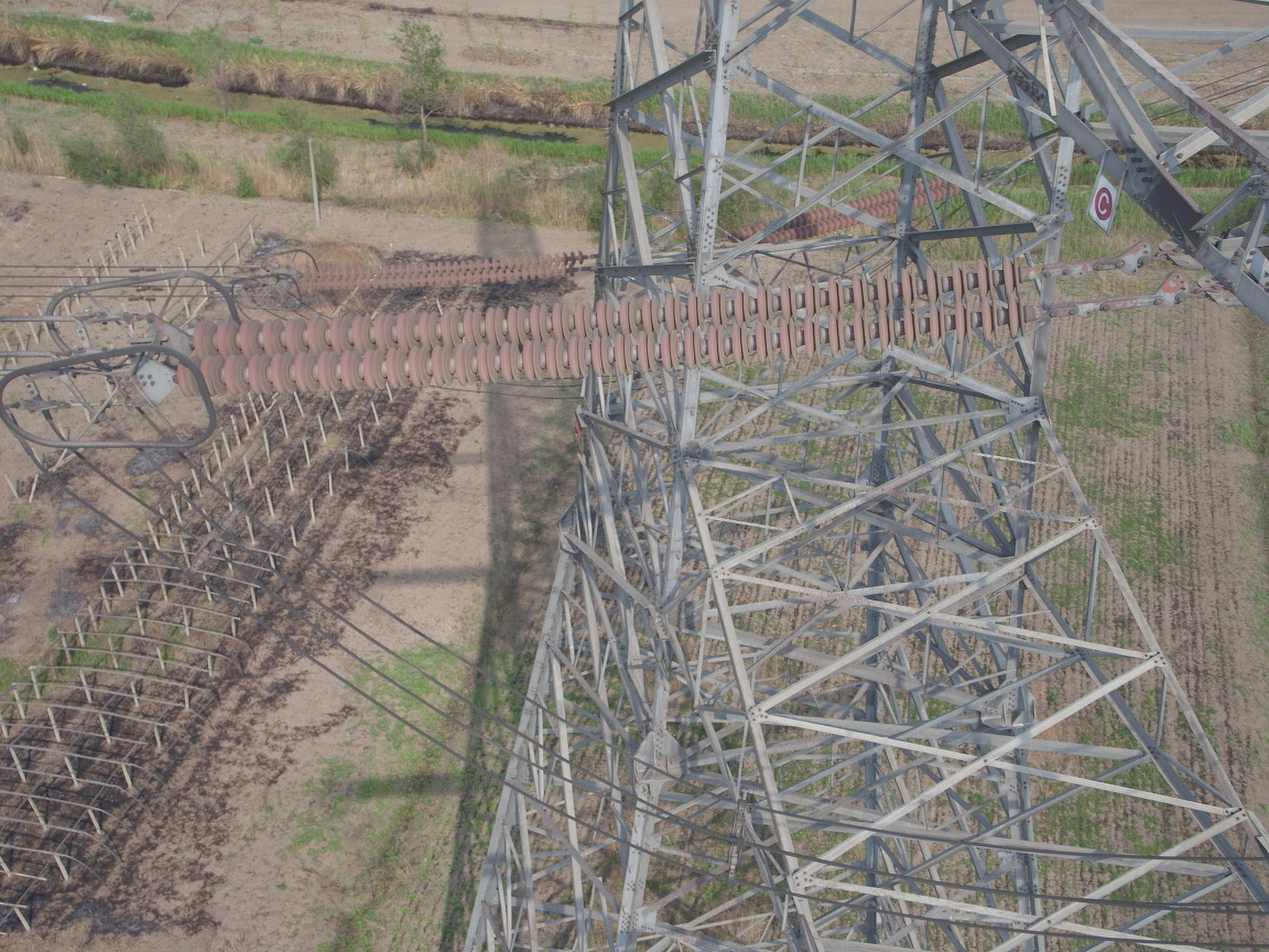insulator: (171, 249, 1034, 405), (728, 174, 964, 253), (289, 248, 585, 295)
